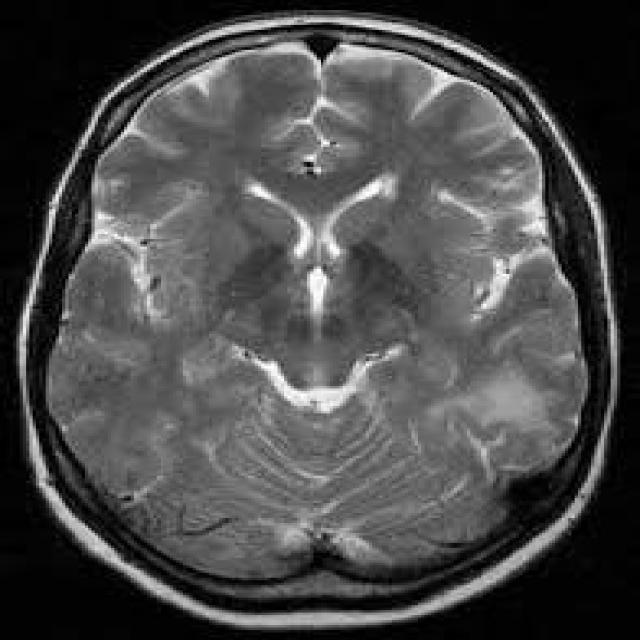notumor: (23, 17, 617, 623)
